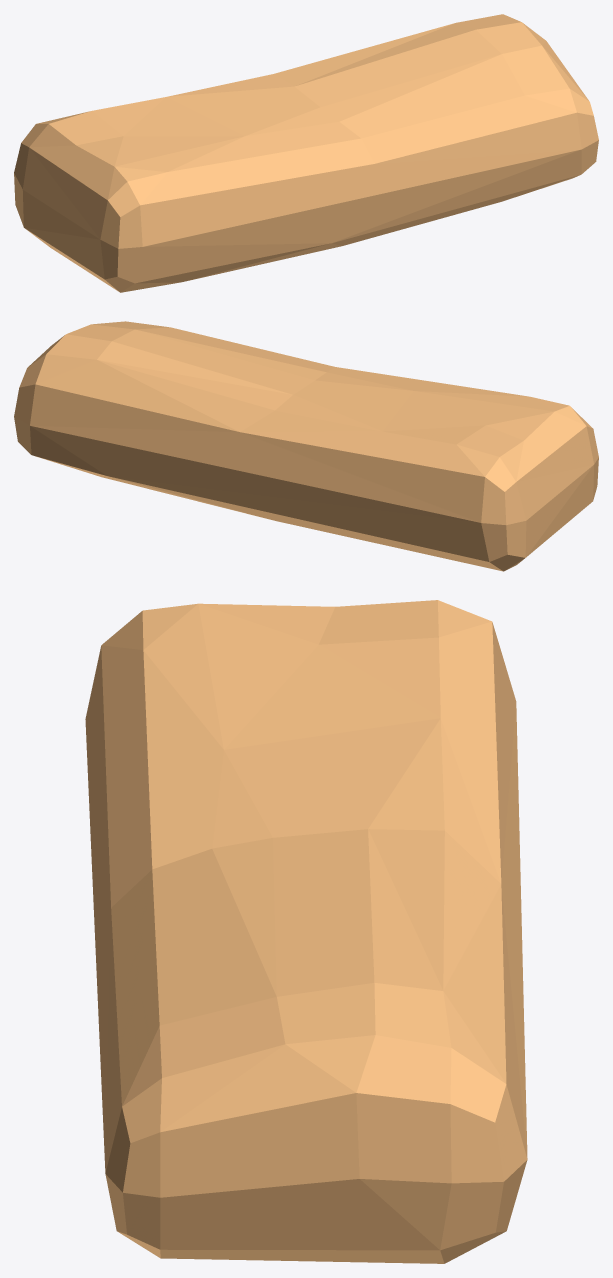
Rendered from Sandbag 03.fbx.
3 renders of one model, top to bottom at view 1: azimuth 30°, elevation 25°; view 2: azimuth 150°, elevation 25°; view 3: azimuth 270°, elevation 25°, orthographic. The views are drawn at different scales.
Parts seen in each view (by area): view 1: Sandbag 03; view 2: Sandbag 03; view 3: Sandbag 03.
Boxes of the visible parts, x1,y1,x2,y2 form: Sandbag 03: (14, 14, 598, 292); Sandbag 03: (14, 321, 598, 571); Sandbag 03: (85, 600, 527, 1263).
Bounding box in the file's own units: 72.19 × 17.39 × 27.54.
